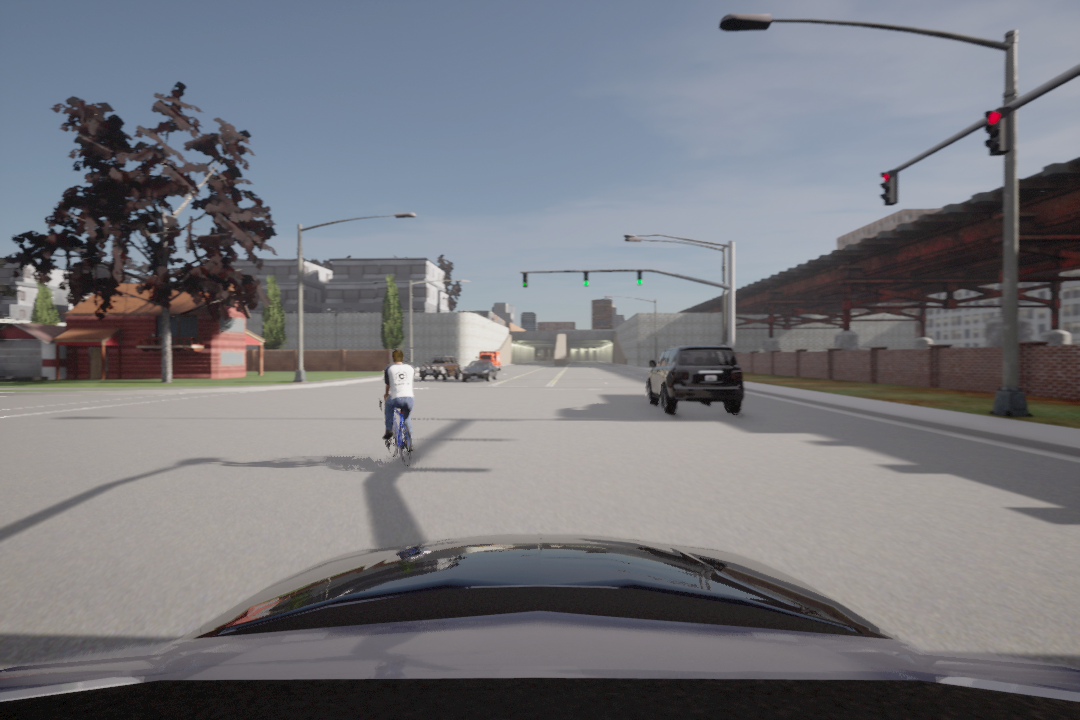TrafficLight: (985, 107, 1007, 156), (881, 171, 900, 208), (578, 269, 594, 288), (521, 271, 531, 290), (634, 270, 644, 287)
